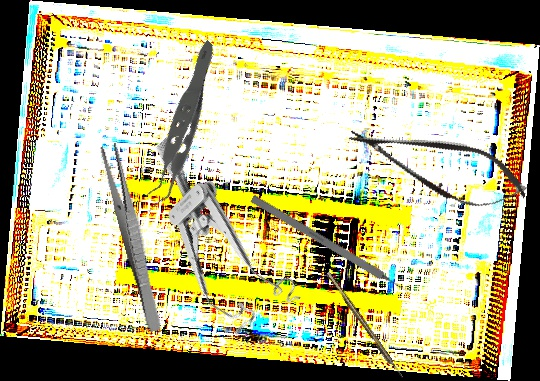Dressing Forceps: (98, 142, 168, 333)
Hook Surgical: (250, 194, 415, 299), (325, 270, 405, 381)
Micro Scissor: (340, 107, 535, 224)
Speculum: (102, 135, 316, 349)
Tissue Forceps: (87, 38, 270, 214)
